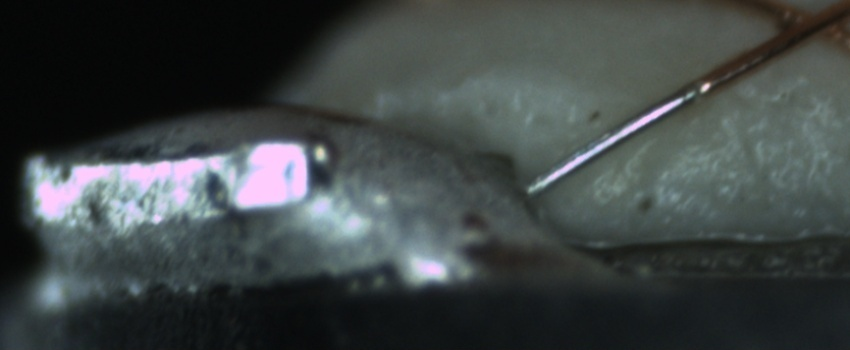CL: (766, 1, 847, 47)
TS: (522, 80, 705, 199)
